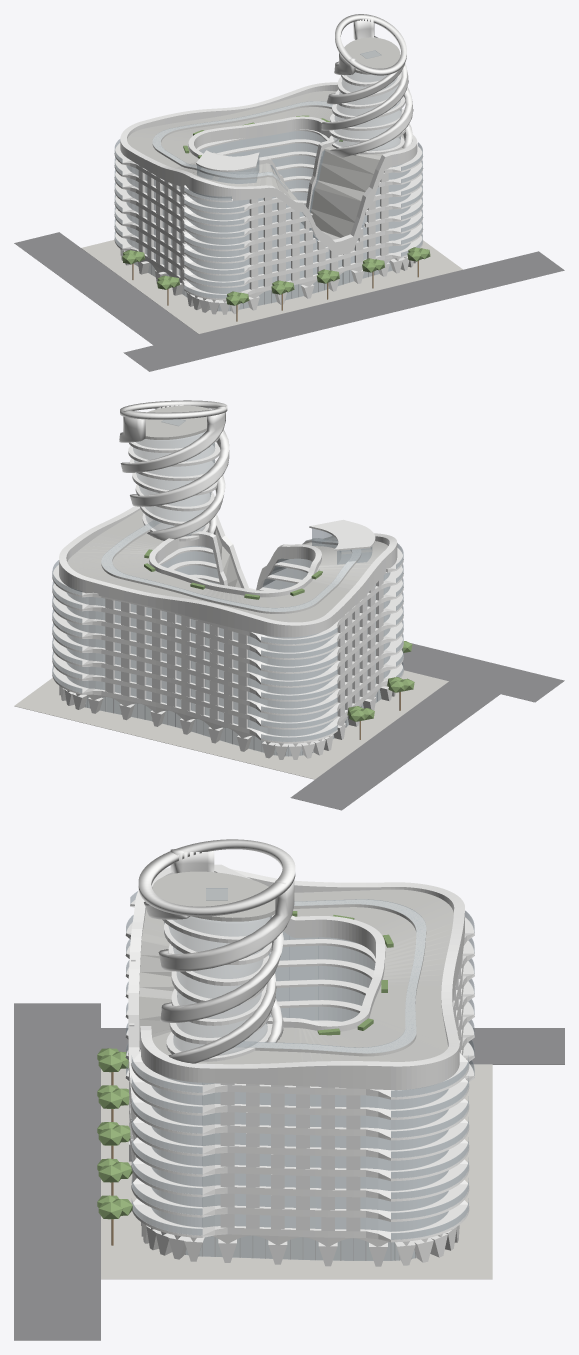
The model's file is clay-sculptural-superblock-clay-v003.glb.
The picture shows the model from 3 angles, top to bottom: view 1: azimuth 30°, elevation 25°; view 2: azimuth 150°, elevation 25°; view 3: azimuth 270°, elevation 25°; orthographic projection. The views are drawn at different scales.
Visible parts, largest first — view 1: CLAY_WHITE, CLAY_GLASS, CLAY_ASPHALT, CLAY_ROOF, CLAY_PAVING, CLAY_PLANTING, CLAY_PALE; view 2: CLAY_WHITE, CLAY_GLASS, CLAY_ASPHALT, CLAY_ROOF, CLAY_PAVING, CLAY_PALE, CLAY_PLANTING; view 3: CLAY_WHITE, CLAY_GLASS, CLAY_ASPHALT, CLAY_ROOF, CLAY_PAVING, CLAY_PALE, CLAY_PLANTING.
Part boxes in pixels (left/top/right/bottom): CLAY_WHITE: left=114, top=14, right=423, bottom=314; CLAY_GLASS: left=114, top=50, right=422, bottom=311; CLAY_ASPHALT: left=14, top=232, right=564, bottom=371; CLAY_ROOF: left=127, top=37, right=403, bottom=239; CLAY_PAVING: left=81, top=240, right=462, bottom=333; CLAY_PLANTING: left=122, top=115, right=430, bottom=305; CLAY_PALE: left=152, top=101, right=360, bottom=191; CLAY_WHITE: left=52, top=400, right=403, bottom=759; CLAY_GLASS: left=52, top=419, right=403, bottom=756; CLAY_ASPHALT: left=290, top=643, right=564, bottom=810; CLAY_ROOF: left=67, top=405, right=388, bottom=622; CLAY_PAVING: left=14, top=670, right=448, bottom=779; CLAY_PALE: left=101, top=520, right=361, bottom=613; CLAY_PLANTING: left=144, top=549, right=414, bottom=721; CLAY_WHITE: left=125, top=839, right=474, bottom=1266; CLAY_GLASS: left=126, top=888, right=474, bottom=1260; CLAY_ASPHALT: left=14, top=1003, right=564, bottom=1340; CLAY_ROOF: left=139, top=871, right=453, bottom=1064; CLAY_PAVING: left=101, top=1064, right=492, bottom=1279; CLAY_PALE: left=235, top=899, right=426, bottom=1056; CLAY_PLANTING: left=97, top=911, right=393, bottom=1219.
Size of the model in its own units: 110 by 57.05 by 76.
